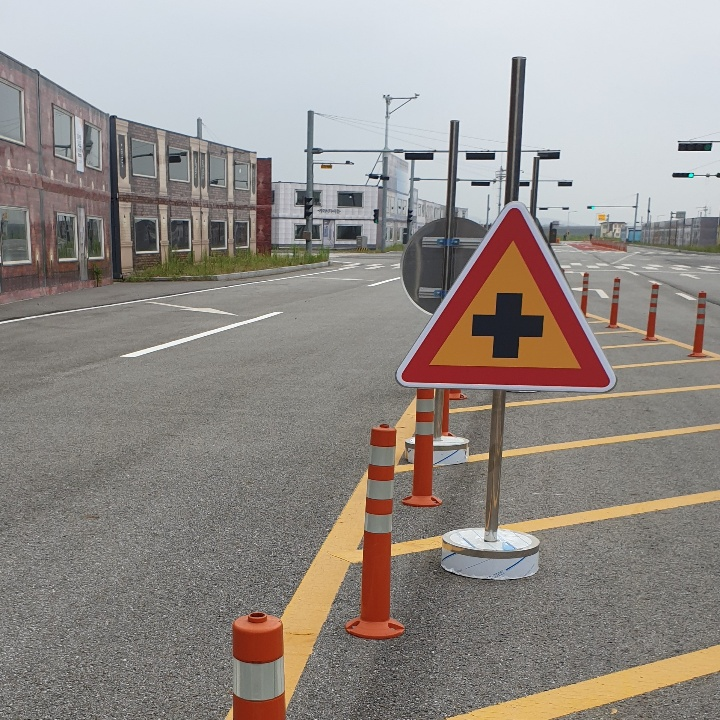inter: (467, 287, 549, 364)
